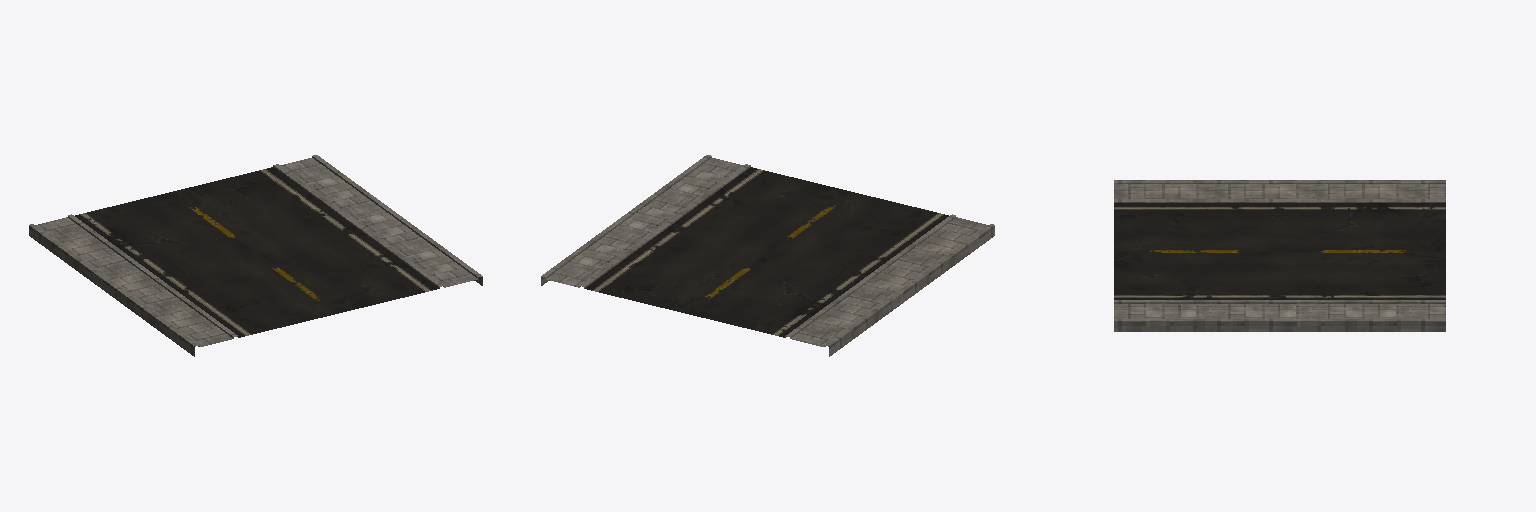
3 views of the same model, side by side, from view 1: azimuth 30°, elevation 25°; view 2: azimuth 150°, elevation 25°; view 3: azimuth 270°, elevation 25° (orthographic).
Parts seen in each view (by area): view 1: 7_Road-Streight-A; view 2: 7_Road-Streight-A; view 3: 7_Road-Streight-A.
Part boxes in pixels (left/top/right/bottom): 7_Road-Streight-A: left=29, top=155, right=482, bottom=356; 7_Road-Streight-A: left=541, top=155, right=994, bottom=356; 7_Road-Streight-A: left=1114, top=180, right=1445, bottom=331.
Bounding box in the file's own units: 0.6196 × 0.0219 × 0.6196.
1 materials, 1 textured.